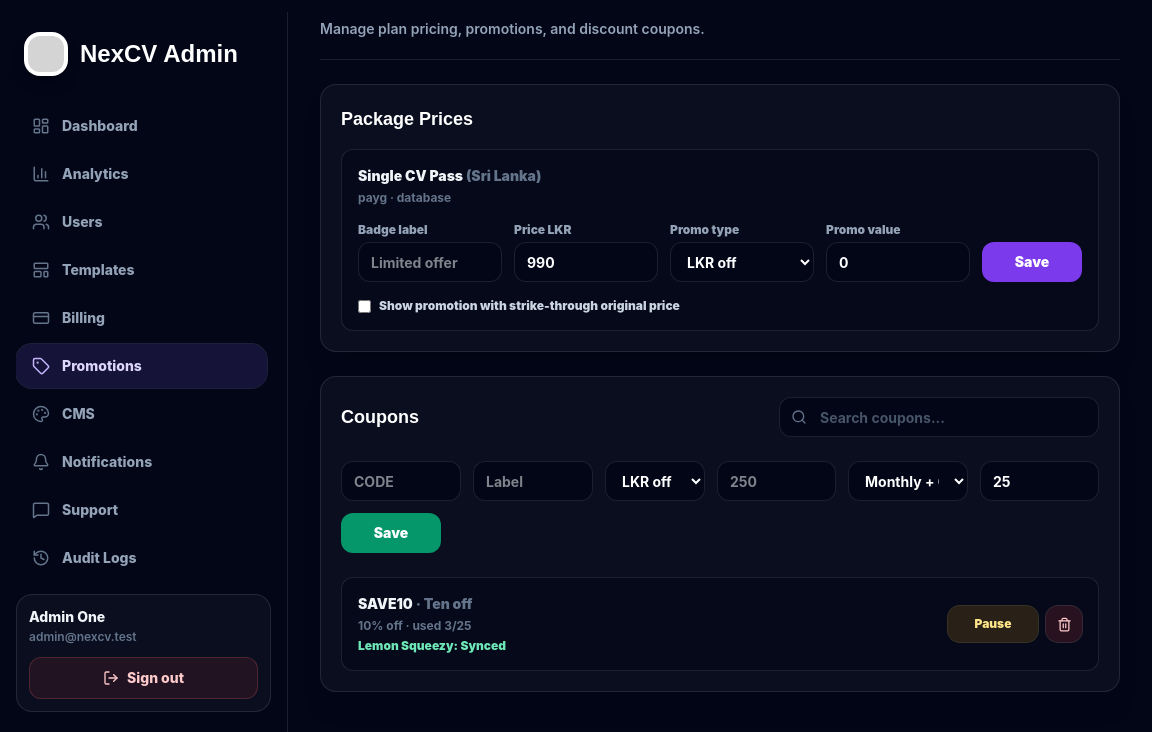
AdminDashboard promotions › pauses and deletes a coupon
(page scrolled)
Expected: the text "SAVE10" is shown, [358,595,413,612]
Click the button "Pause". click: click(993, 624)
box: [948,606,1038,642]
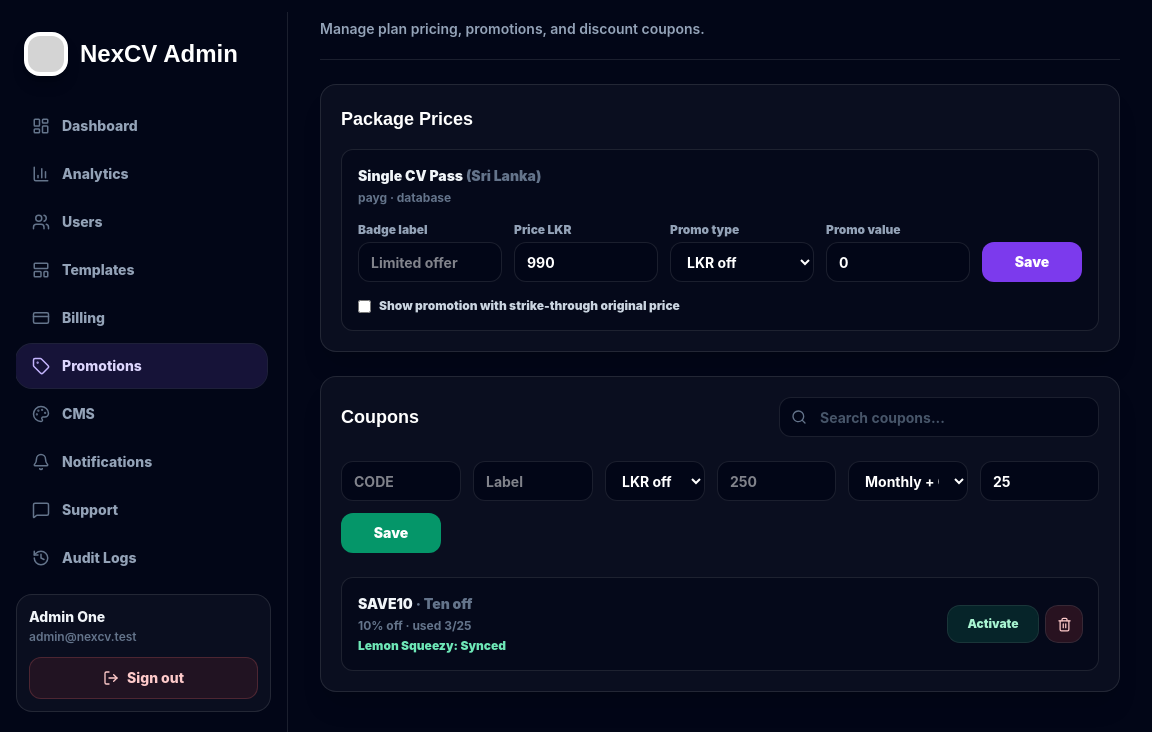
Expected: the button "Activate" is shown, [948,606,1038,642]
Click the button titled "Delete coupon". click: click(1064, 624)
box: [1046,606,1082,642]
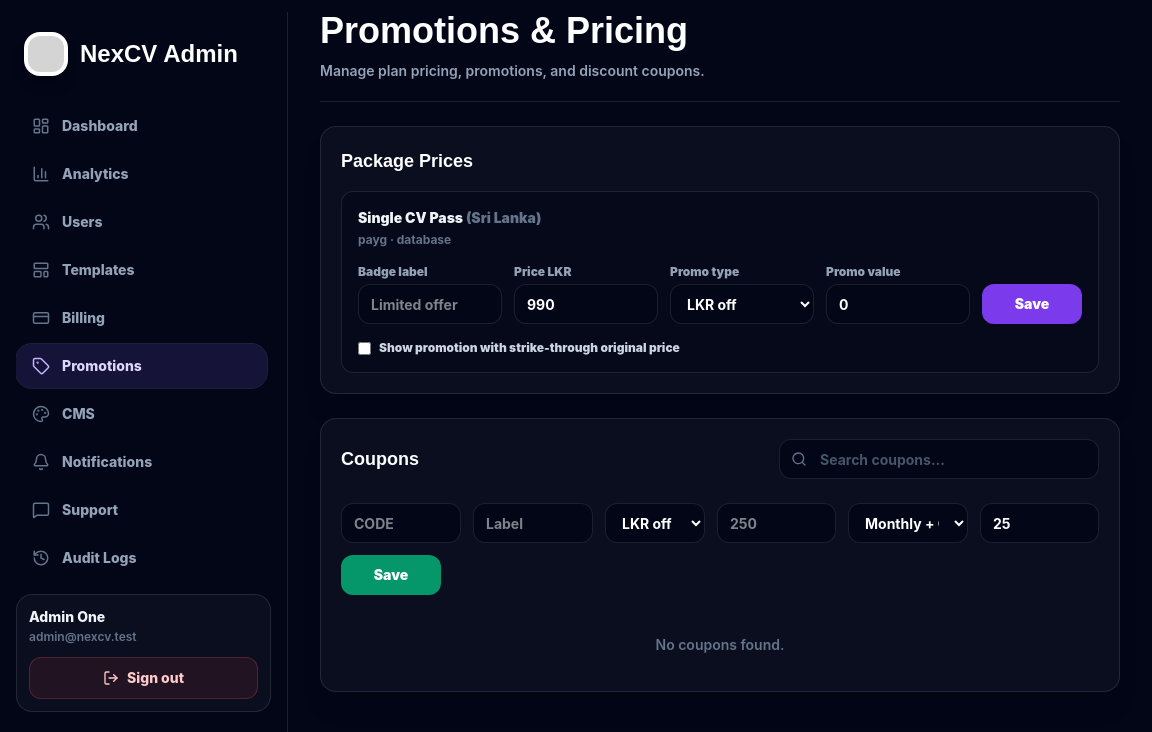
Expected: the text "No coupons found." is shown, [656,636,784,653]
